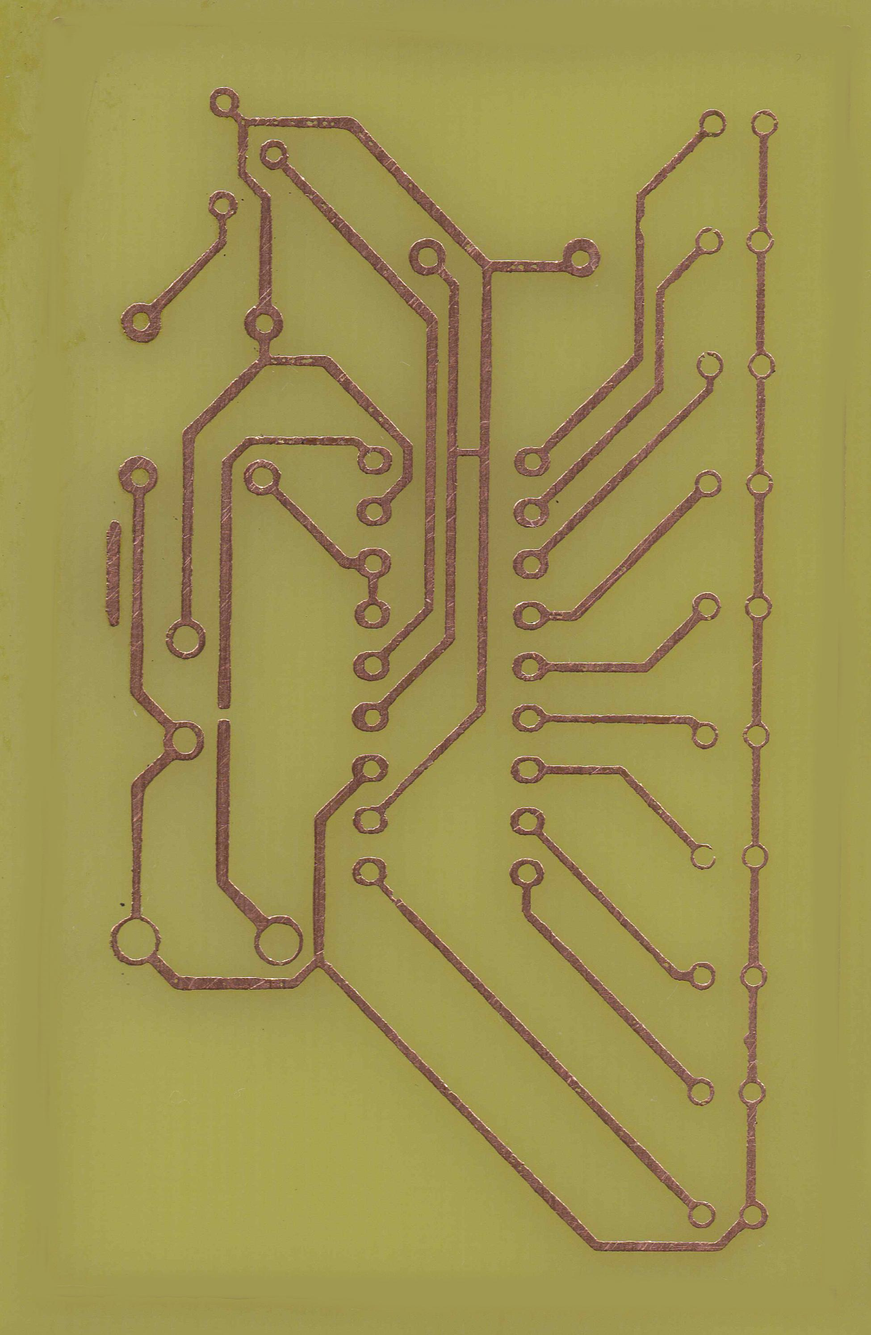missing_hole: (690, 224, 729, 256), (693, 348, 725, 380), (687, 839, 716, 873)
mouse_bite: (385, 885, 404, 907), (632, 217, 647, 243), (294, 354, 315, 369)
open_circuit: (208, 697, 239, 729)
short: (444, 438, 492, 462)
spur: (741, 1029, 759, 1049)
spurious_copper: (100, 513, 127, 632)
